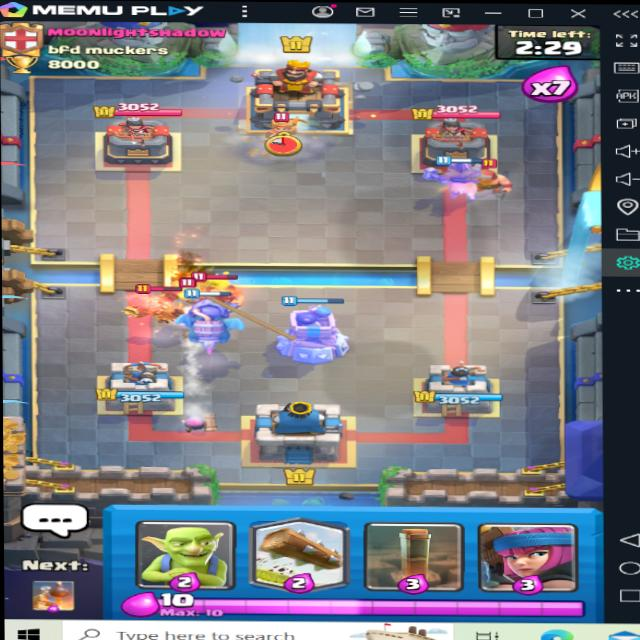Fisherman: (195, 279, 263, 312)
Littleprince: (257, 110, 308, 152)
Lumberjack: (462, 158, 524, 199)
Pheonix: (112, 285, 213, 331)
